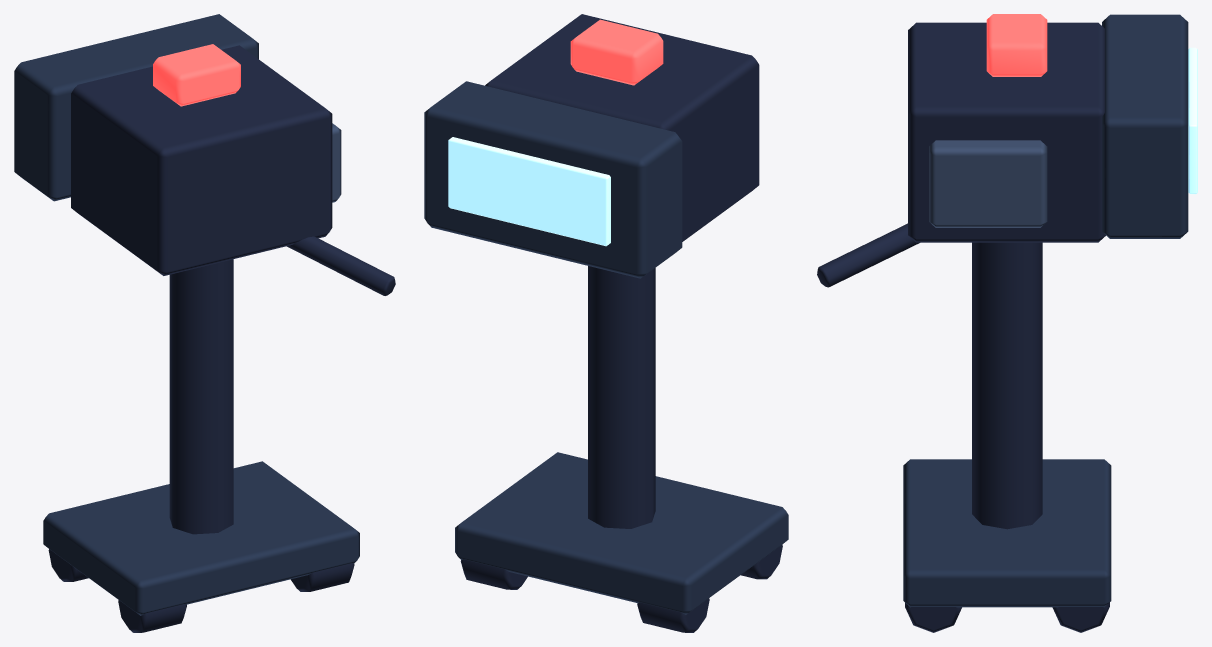
The model's file is camera.glb.
3 renders of one model, left to right at view 1: azimuth 30°, elevation 25°; view 2: azimuth 150°, elevation 25°; view 3: azimuth 270°, elevation 25°, orthographic. The views are drawn at different scales.
Parts seen in each view (by area): view 1: camera; view 2: camera; view 3: camera.
Boxes of the visible parts, bbox=[...] form: camera: bbox=[14, 14, 395, 632]; camera: bbox=[424, 14, 788, 632]; camera: bbox=[817, 14, 1197, 632].
Bounding box in the file's own units: 0.86 × 1.9 × 1.19.
